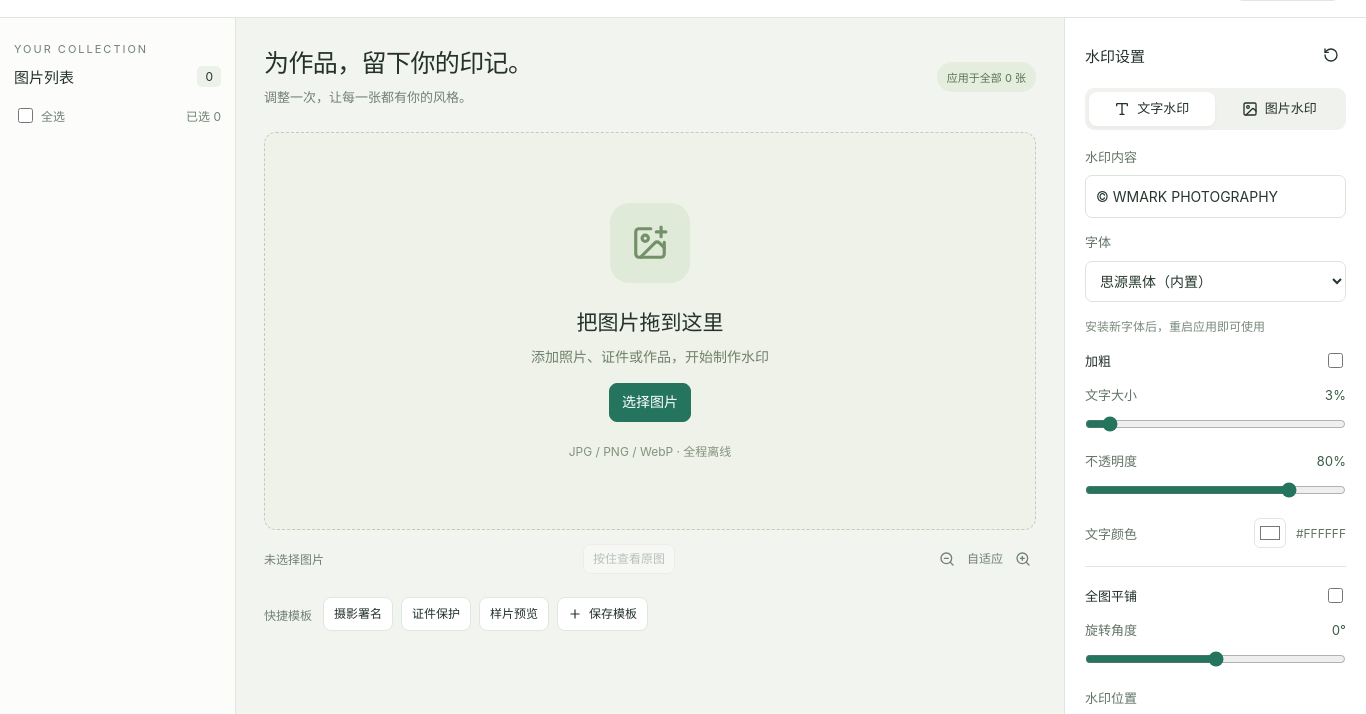
Test: R07 cancellation retains completed outputs and reports unprocessed files
The width and height of the screenshot is (1366, 714).
Step 1. Click the button "选择图片" → (650, 402), box [609,383,691,422]
(page scrolled)
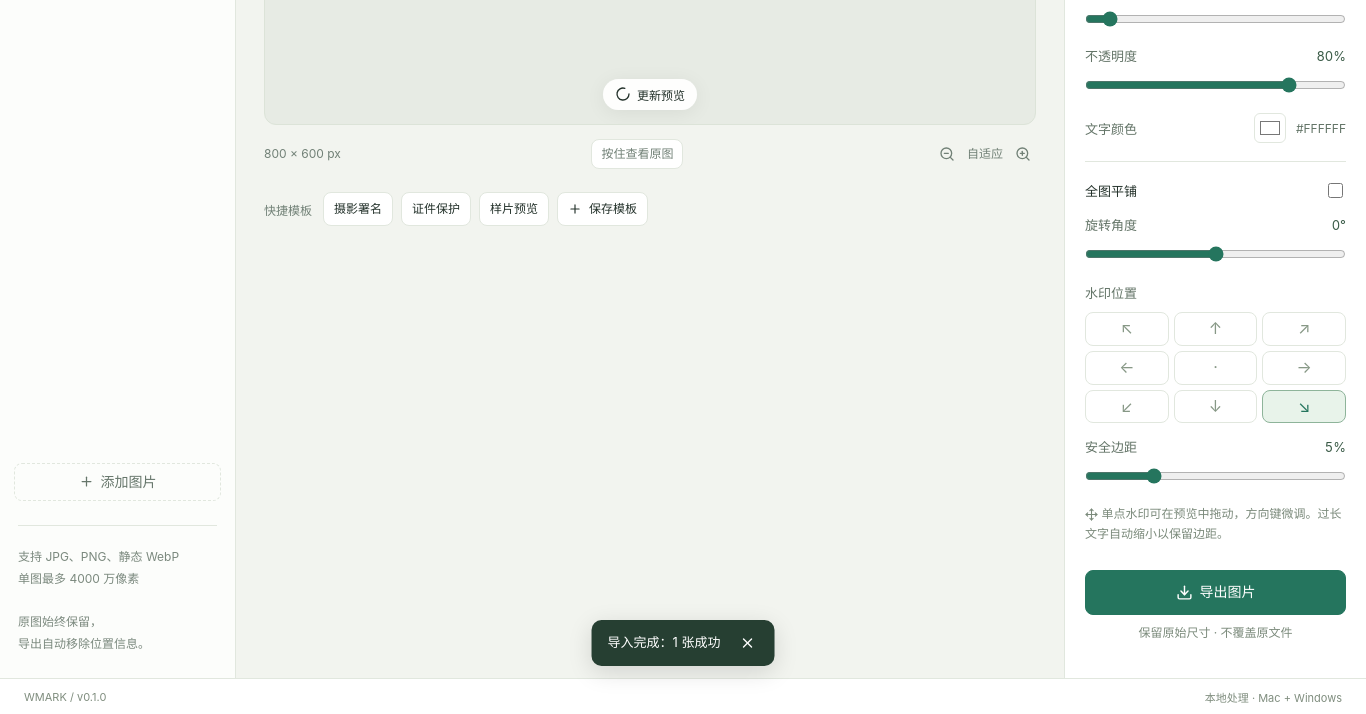
Expected: the text "800 × 600 px" is shown, [264,146,341,161]
Step 2. Click the button "导出图片" → (1216, 592), box [1085,570,1346,615]
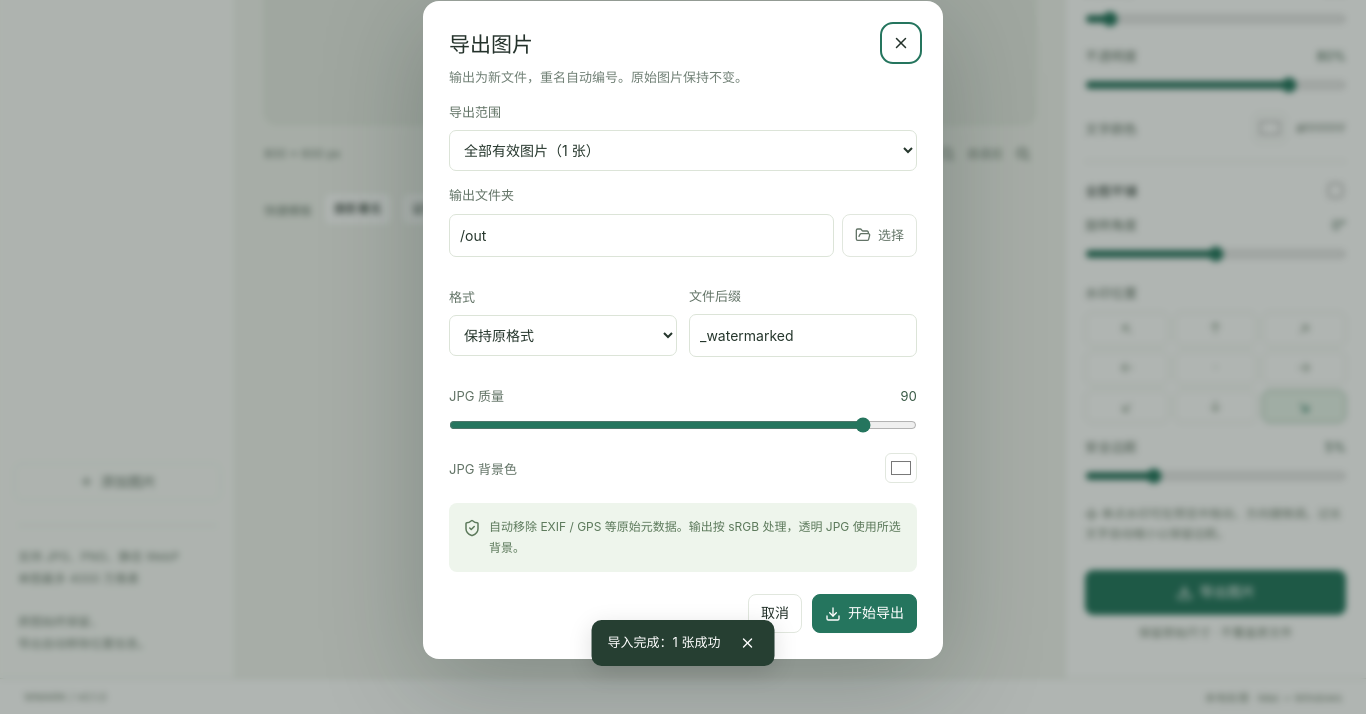
Expected: the button "开始导出" is enabled
Step 3. Click the button "开始导出" → (864, 614), box [812,594,917,633]
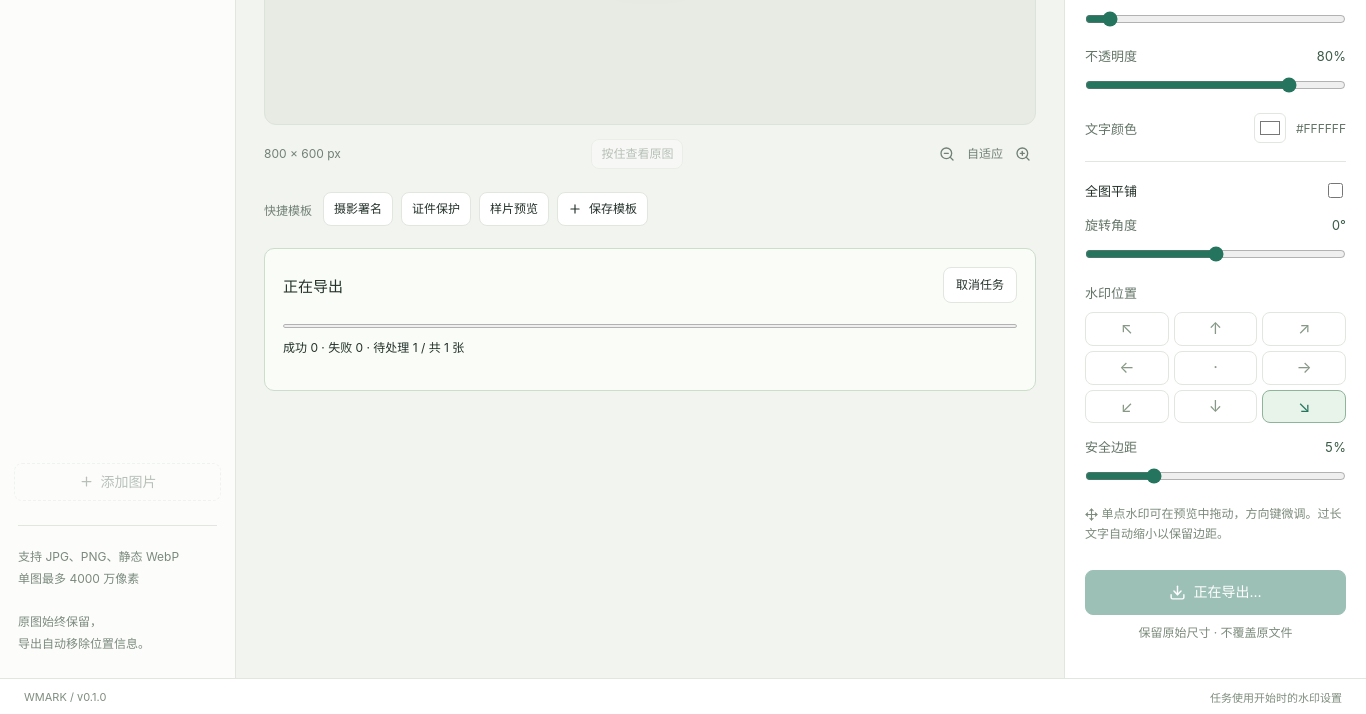
Step 4. Click the button "取消任务" → (980, 285), box [943,267,1017,303]
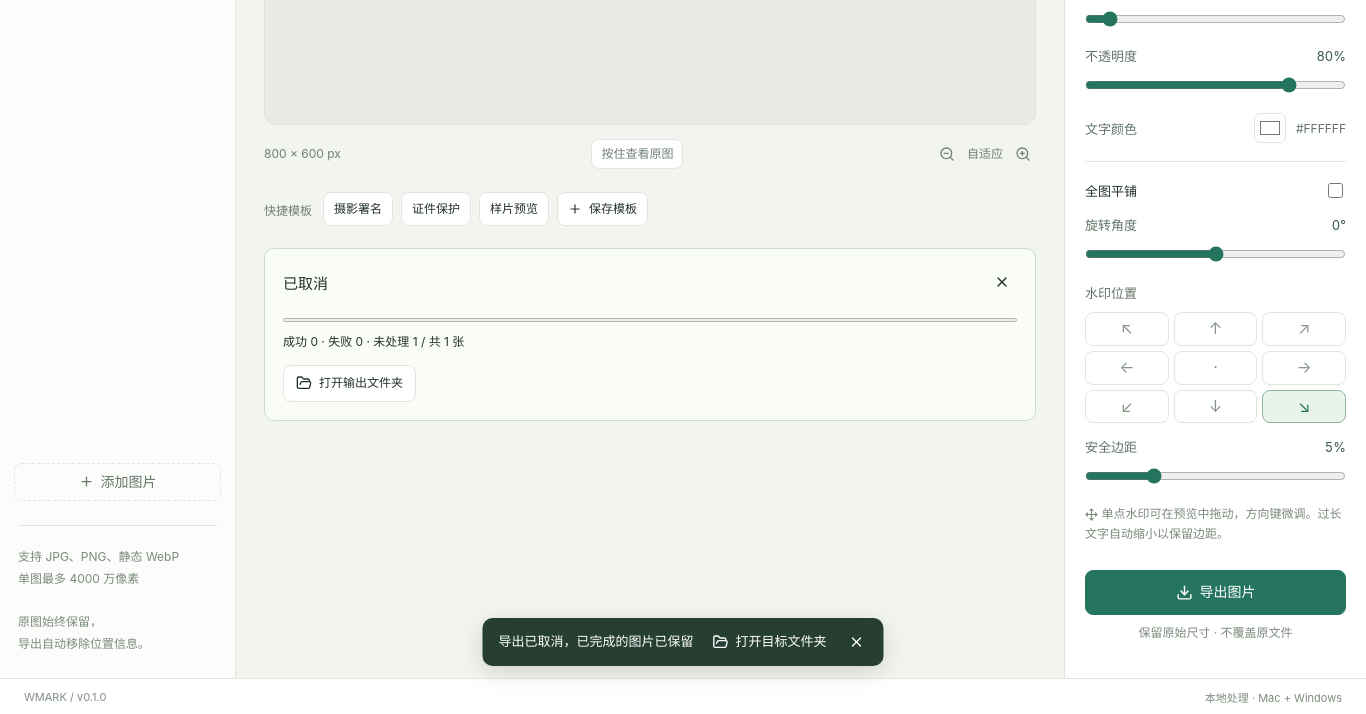
Expected: the heading "已取消" is shown, [283,272,328,293]
Expected: the text "成功 0 · 失败 0 · 未处理 1 / 共 1 张" is shown, [283,334,464,349]
